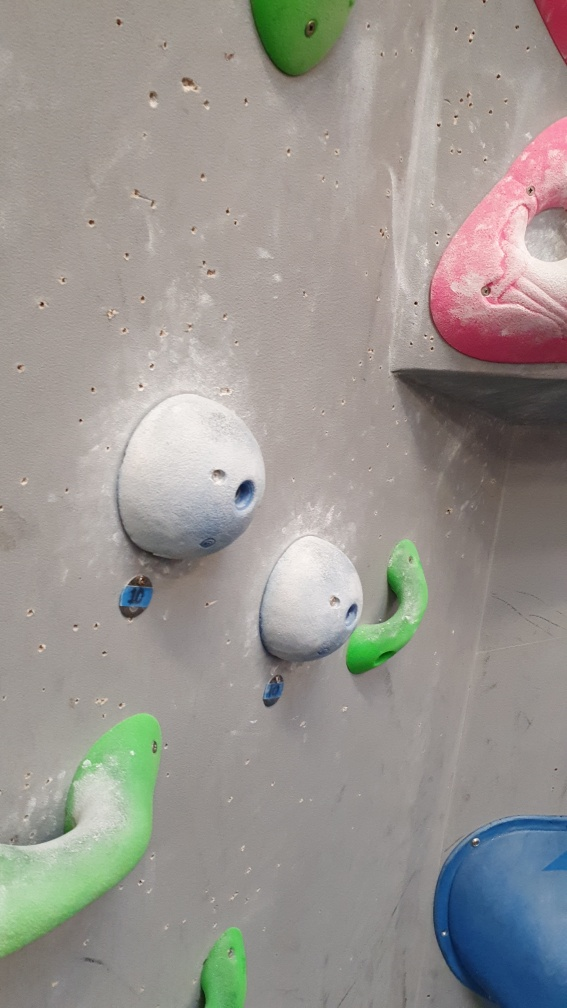Hand Start: (115, 574, 157, 621), (262, 674, 288, 709)
Pocket: (424, 105, 567, 367)
Sloper: (115, 393, 266, 564), (259, 532, 364, 663)
